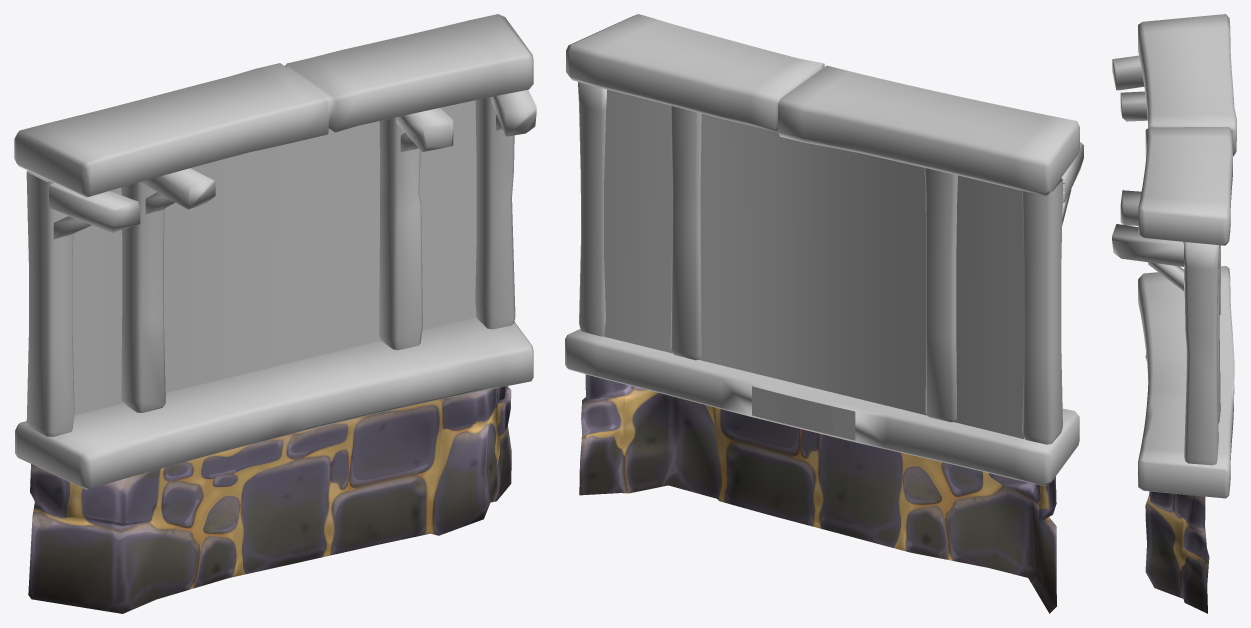
The model's file is U_Wall_LongB_02.fbx.
The picture shows the model from 3 angles, left to right: view 1: azimuth 30°, elevation 25°; view 2: azimuth 150°, elevation 25°; view 3: azimuth 270°, elevation 25°; orthographic projection. The views are drawn at different scales.
Visible parts, largest first — view 1: U_Wall_LongB_02; view 2: U_Wall_LongB_02; view 3: U_Wall_LongB_02.
Part boxes in pixels (x1,y1,x2,y2): U_Wall_LongB_02: [14, 14, 536, 613]; U_Wall_LongB_02: [565, 14, 1083, 613]; U_Wall_LongB_02: [1112, 14, 1236, 613].
Bounding box in the file's own units: 4612 × 4214 × 1186.
